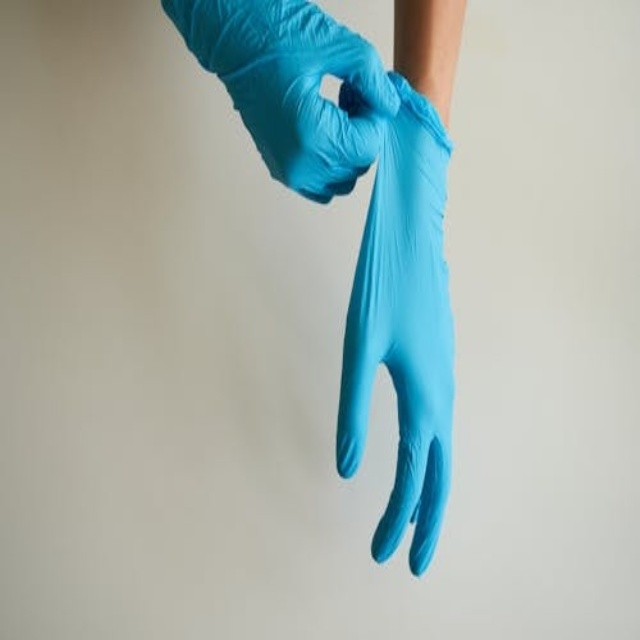Guantes: (333, 68, 457, 581), (152, 1, 398, 209)
